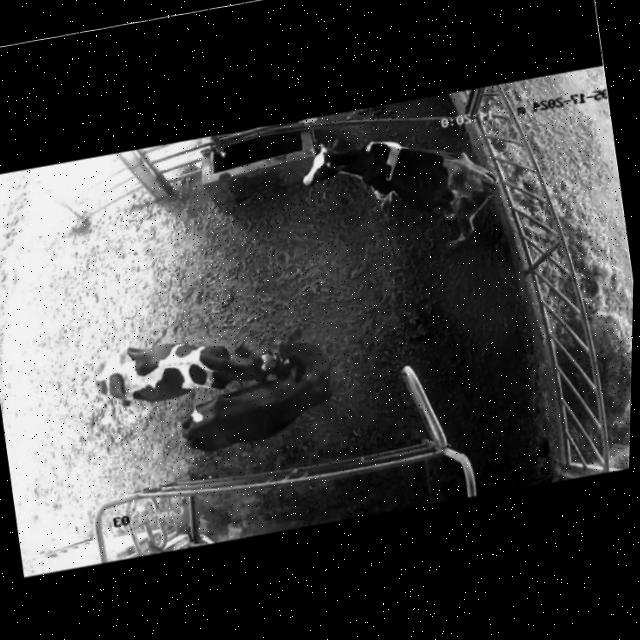stand: (284, 111, 513, 268), (164, 311, 348, 467), (66, 310, 301, 429)
